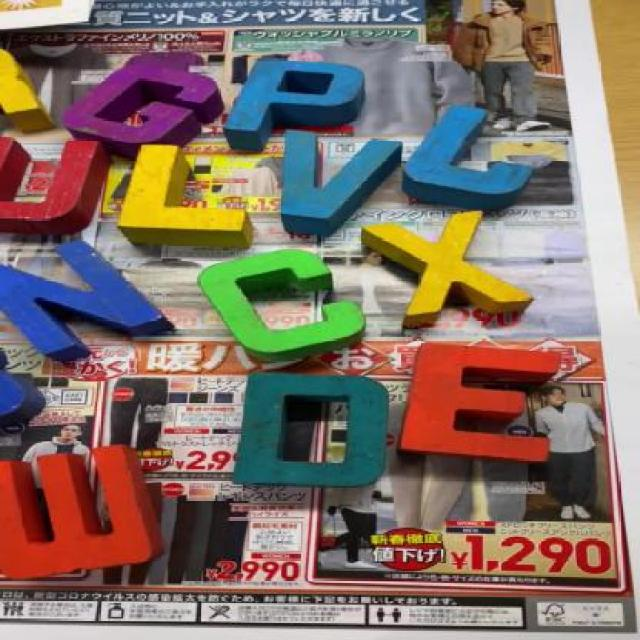C: (202, 249, 367, 360)
D: (235, 370, 396, 485)
E: (398, 340, 570, 462)
G: (65, 66, 217, 146)
L: (114, 145, 257, 244)
N: (0, 238, 175, 359)
P: (228, 58, 362, 151)
V: (269, 130, 400, 230)
W: (0, 448, 162, 577)
X: (367, 207, 530, 325)
